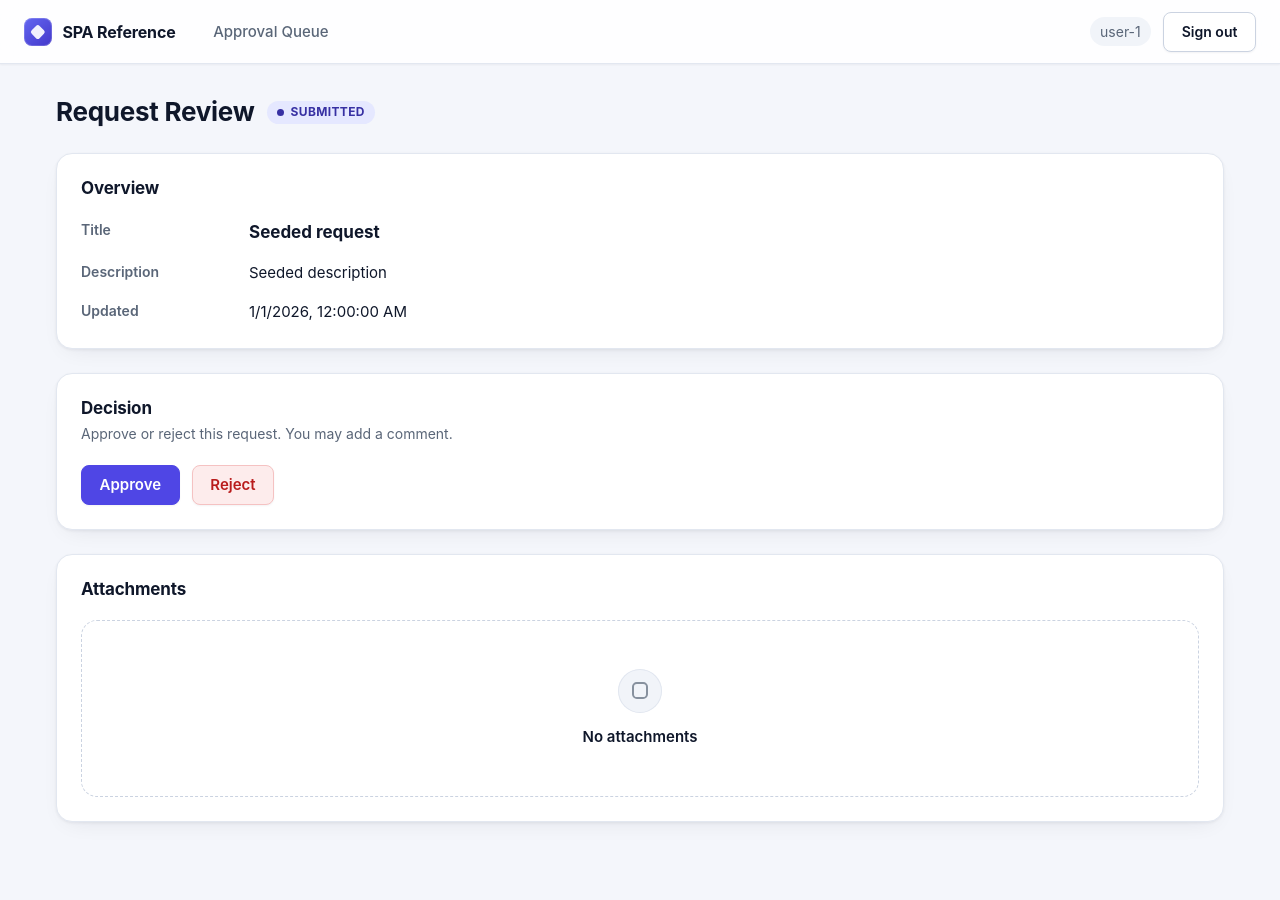
Approver flow › rejects a request
Step 1. Click the button "Reject" → {"x": 233, "y": 484}, box x1=192 y1=464 x2=274 y2=504
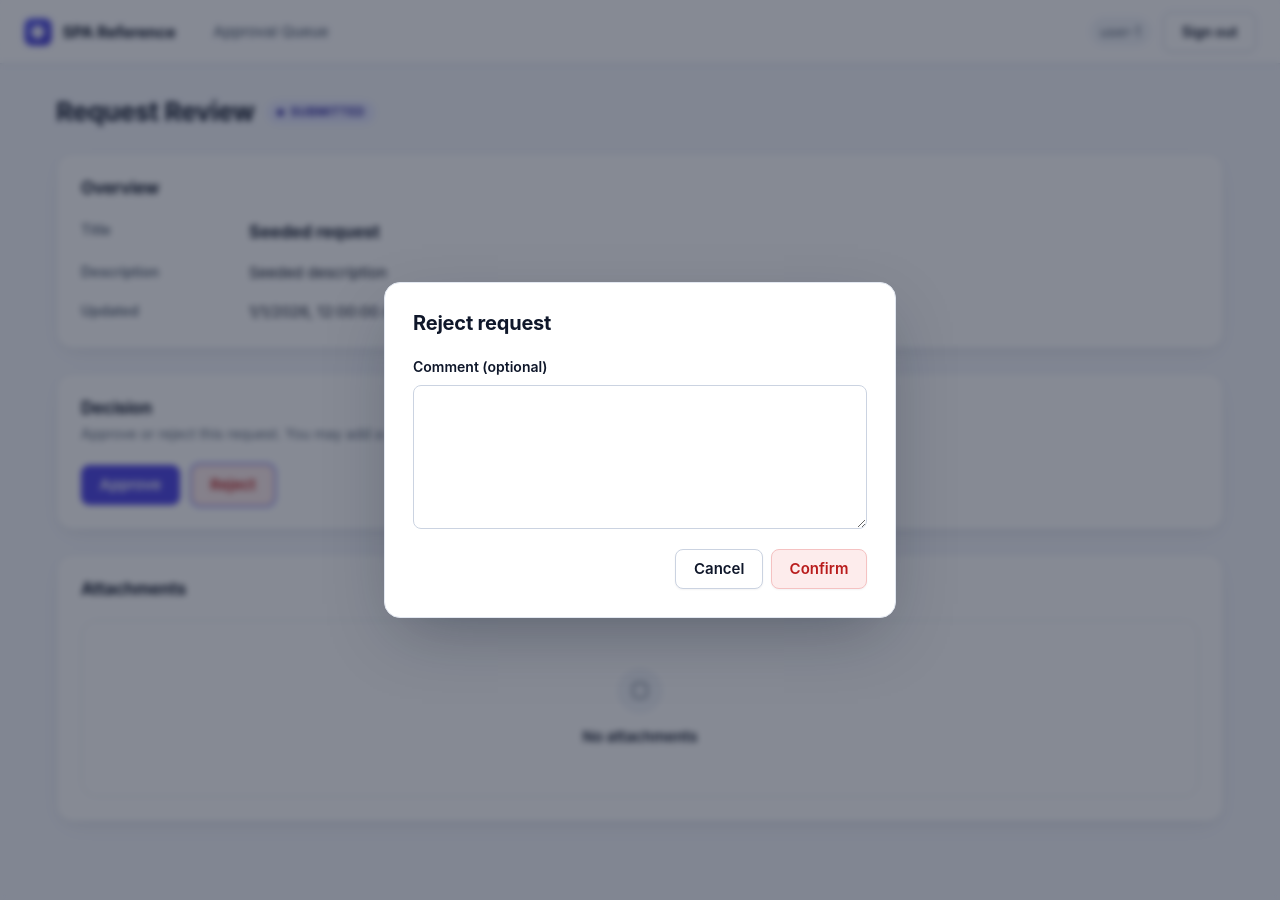
Step 2. Click the button "Confirm" → {"x": 819, "y": 568}, box x1=771 y1=548 x2=867 y2=588
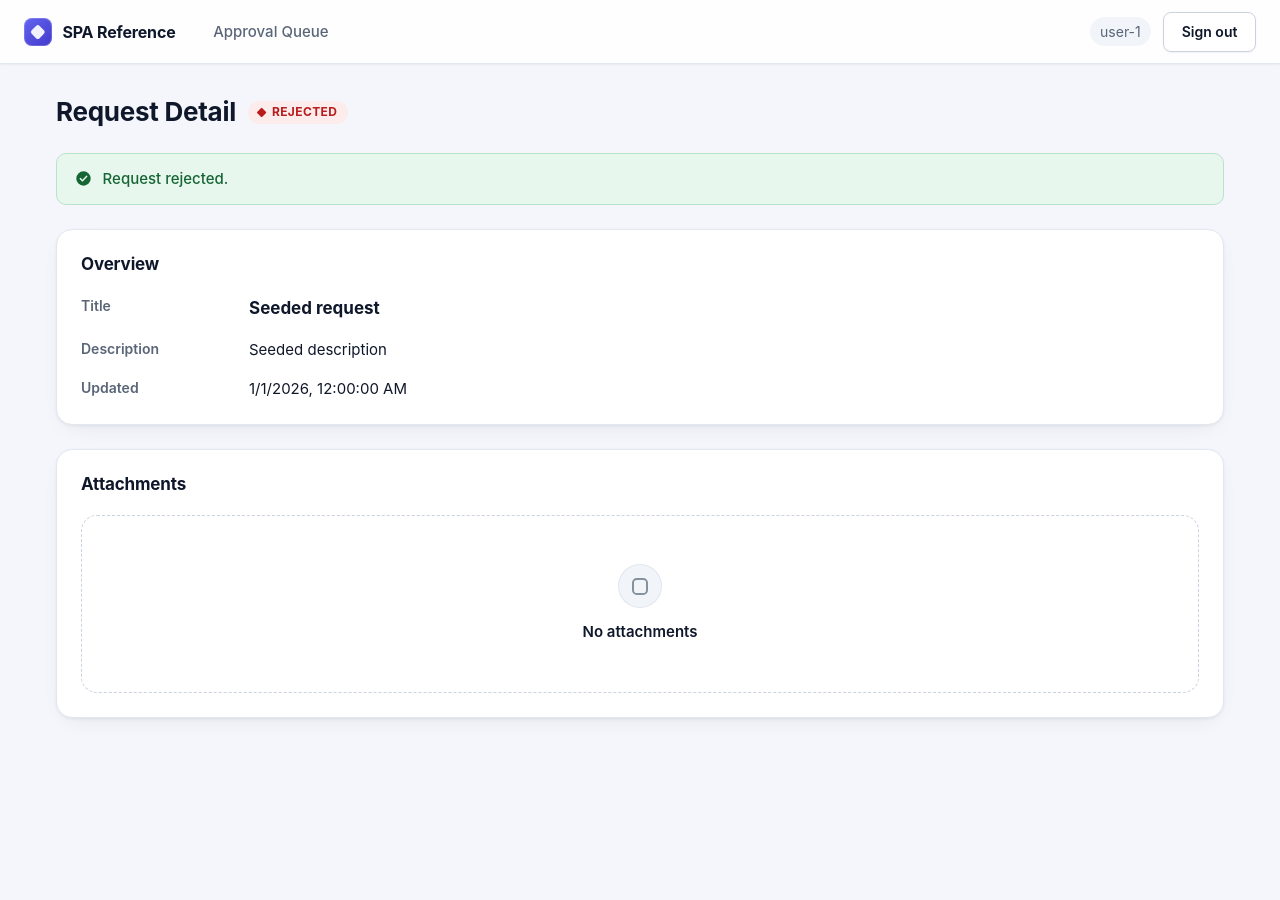
Check: the text "Request rejected." is shown, box x1=56 y1=152 x2=1224 y2=205
